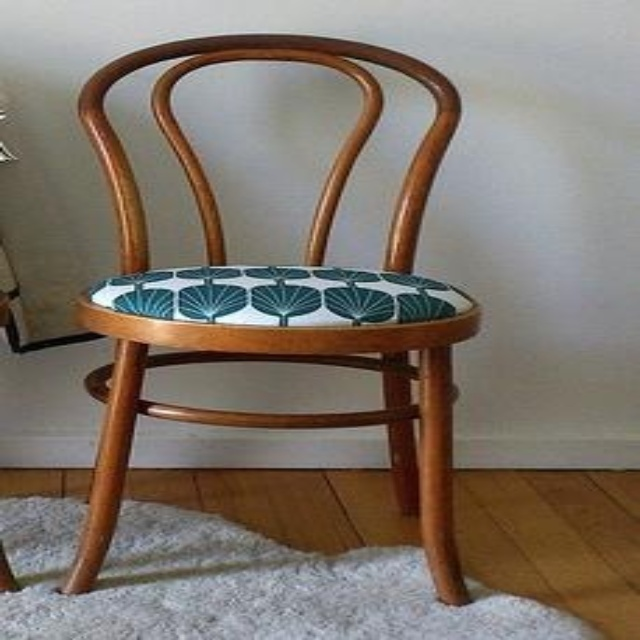obstacle: (61, 35, 478, 603)
